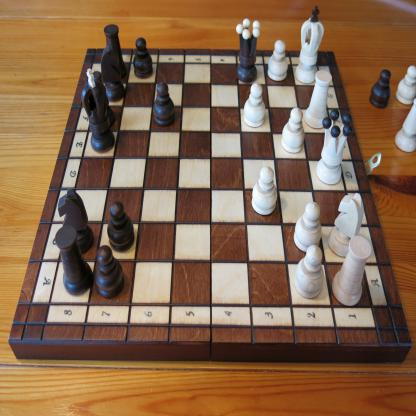black-bishop: (92, 69, 116, 128)
black-king: (80, 68, 116, 153)
black-knight: (58, 188, 93, 256), (100, 44, 126, 102)
black-pawn: (94, 244, 124, 299), (106, 200, 135, 251), (152, 81, 176, 127), (132, 36, 154, 80), (370, 67, 392, 108)
black-queen: (235, 18, 261, 84)
black-rook: (54, 224, 94, 296), (103, 23, 128, 80)
white-bishop: (394, 98, 416, 154)
white-king: (294, 5, 324, 84)
white-knight: (327, 191, 365, 259)
white-pawn: (294, 243, 324, 299), (293, 200, 323, 251), (251, 166, 278, 216), (281, 107, 306, 154), (243, 82, 266, 128), (269, 38, 291, 79), (396, 64, 415, 106)
white-queen: (316, 106, 353, 184)
white-rook: (331, 235, 372, 307), (304, 69, 333, 129)
